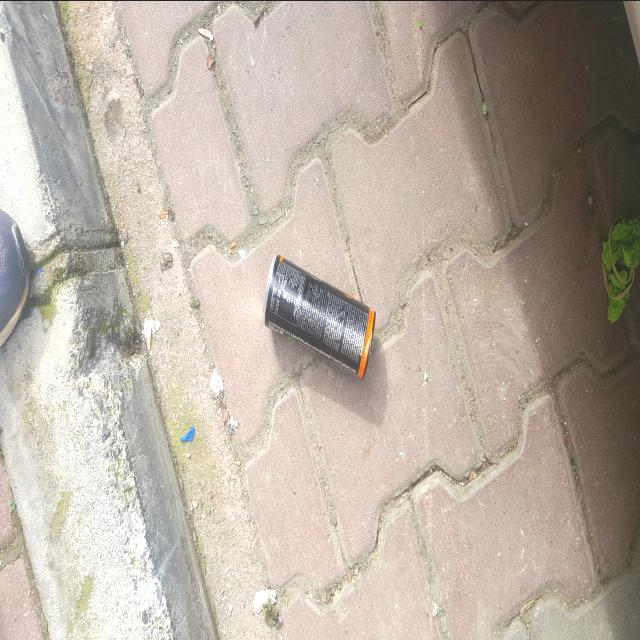Drink can: (263, 253, 376, 380)
Other plastic bottle: (180, 425, 195, 441)
Unlabeled litter: (602, 215, 639, 323)
